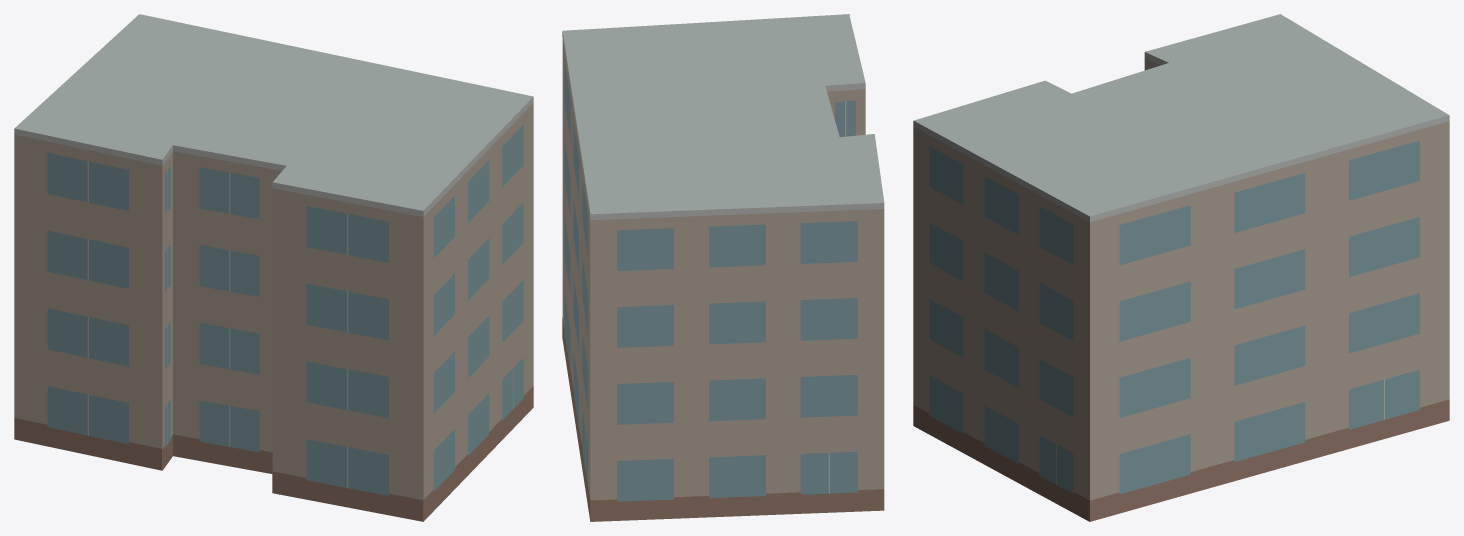
The model's file is survey-upis-32780032.glb.
The picture shows the model from 3 angles, left to right: view 1: azimuth 30°, elevation 25°; view 2: azimuth 150°, elevation 25°; view 3: azimuth 270°, elevation 25°; orthographic projection.
Visible parts, largest first — view 1: survey-upis-32780032.tmp; view 2: survey-upis-32780032.tmp; view 3: survey-upis-32780032.tmp.
Boxes of the visible parts, x1,y1,x2,y2 form: survey-upis-32780032.tmp: (14,14,533,521); survey-upis-32780032.tmp: (562,14,884,521); survey-upis-32780032.tmp: (913,14,1449,521).
Size of the model in its own units: 17.95 by 12.62 by 20.09.
